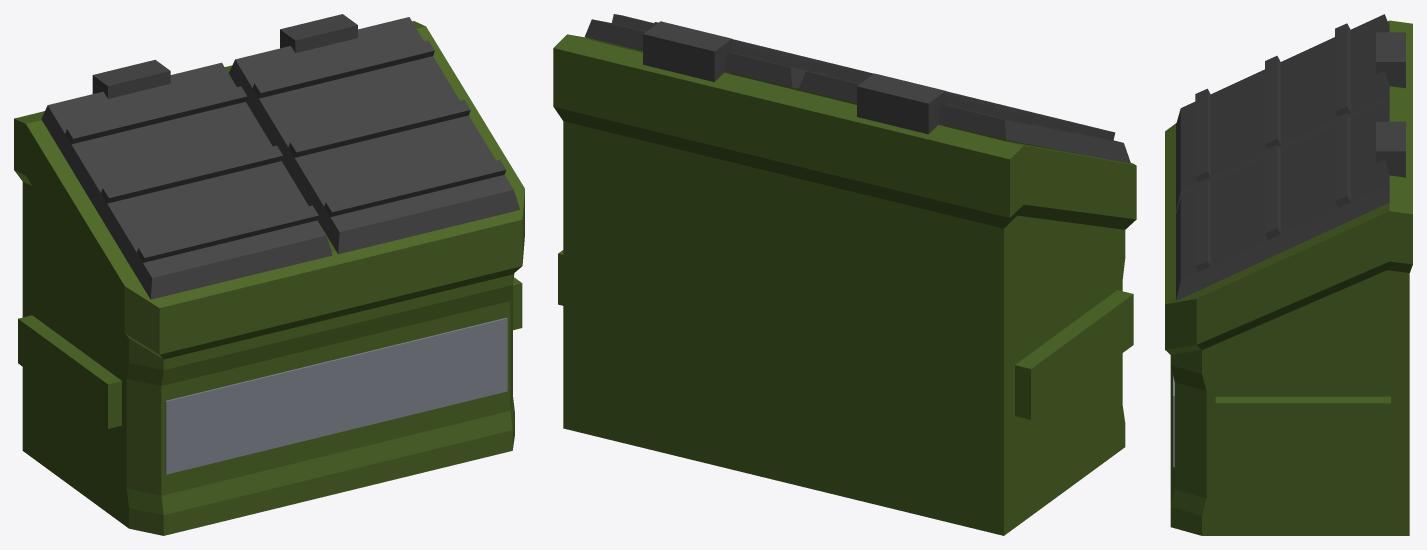
The model's file is Dumpster-transformed.glb.
3 renders of one model, left to right at view 1: azimuth 30°, elevation 25°; view 2: azimuth 150°, elevation 25°; view 3: azimuth 270°, elevation 25°, orthographic. The views are drawn at different scales.
Visible parts, largest first — view 1: TrashContainer; view 2: TrashContainer; view 3: TrashContainer.
Part boxes in pixels (<box>): TrashContainer: <box>14,14,524,535</box>; TrashContainer: <box>553,14,1136,535</box>; TrashContainer: <box>1165,14,1412,535</box>.
Bounding box in the file's own units: 2.44 × 2.03 × 1.3.
